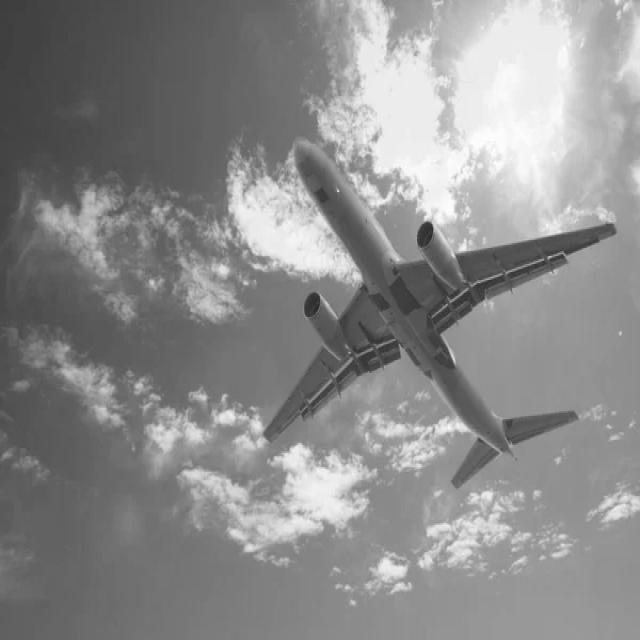Aircraft: (256, 130, 620, 486)
